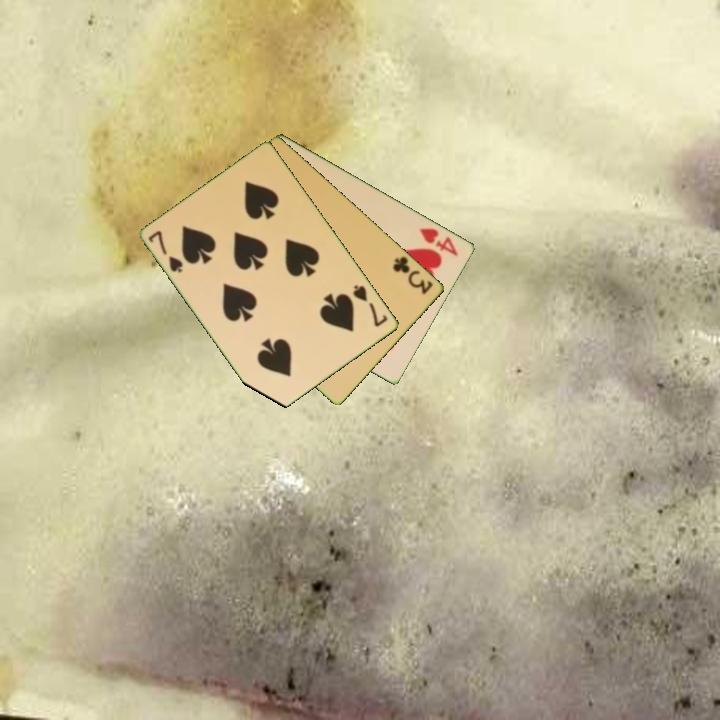3c: (389, 252, 436, 297)
4h: (416, 224, 461, 259)
7s: (350, 281, 391, 330), (145, 227, 186, 276)
